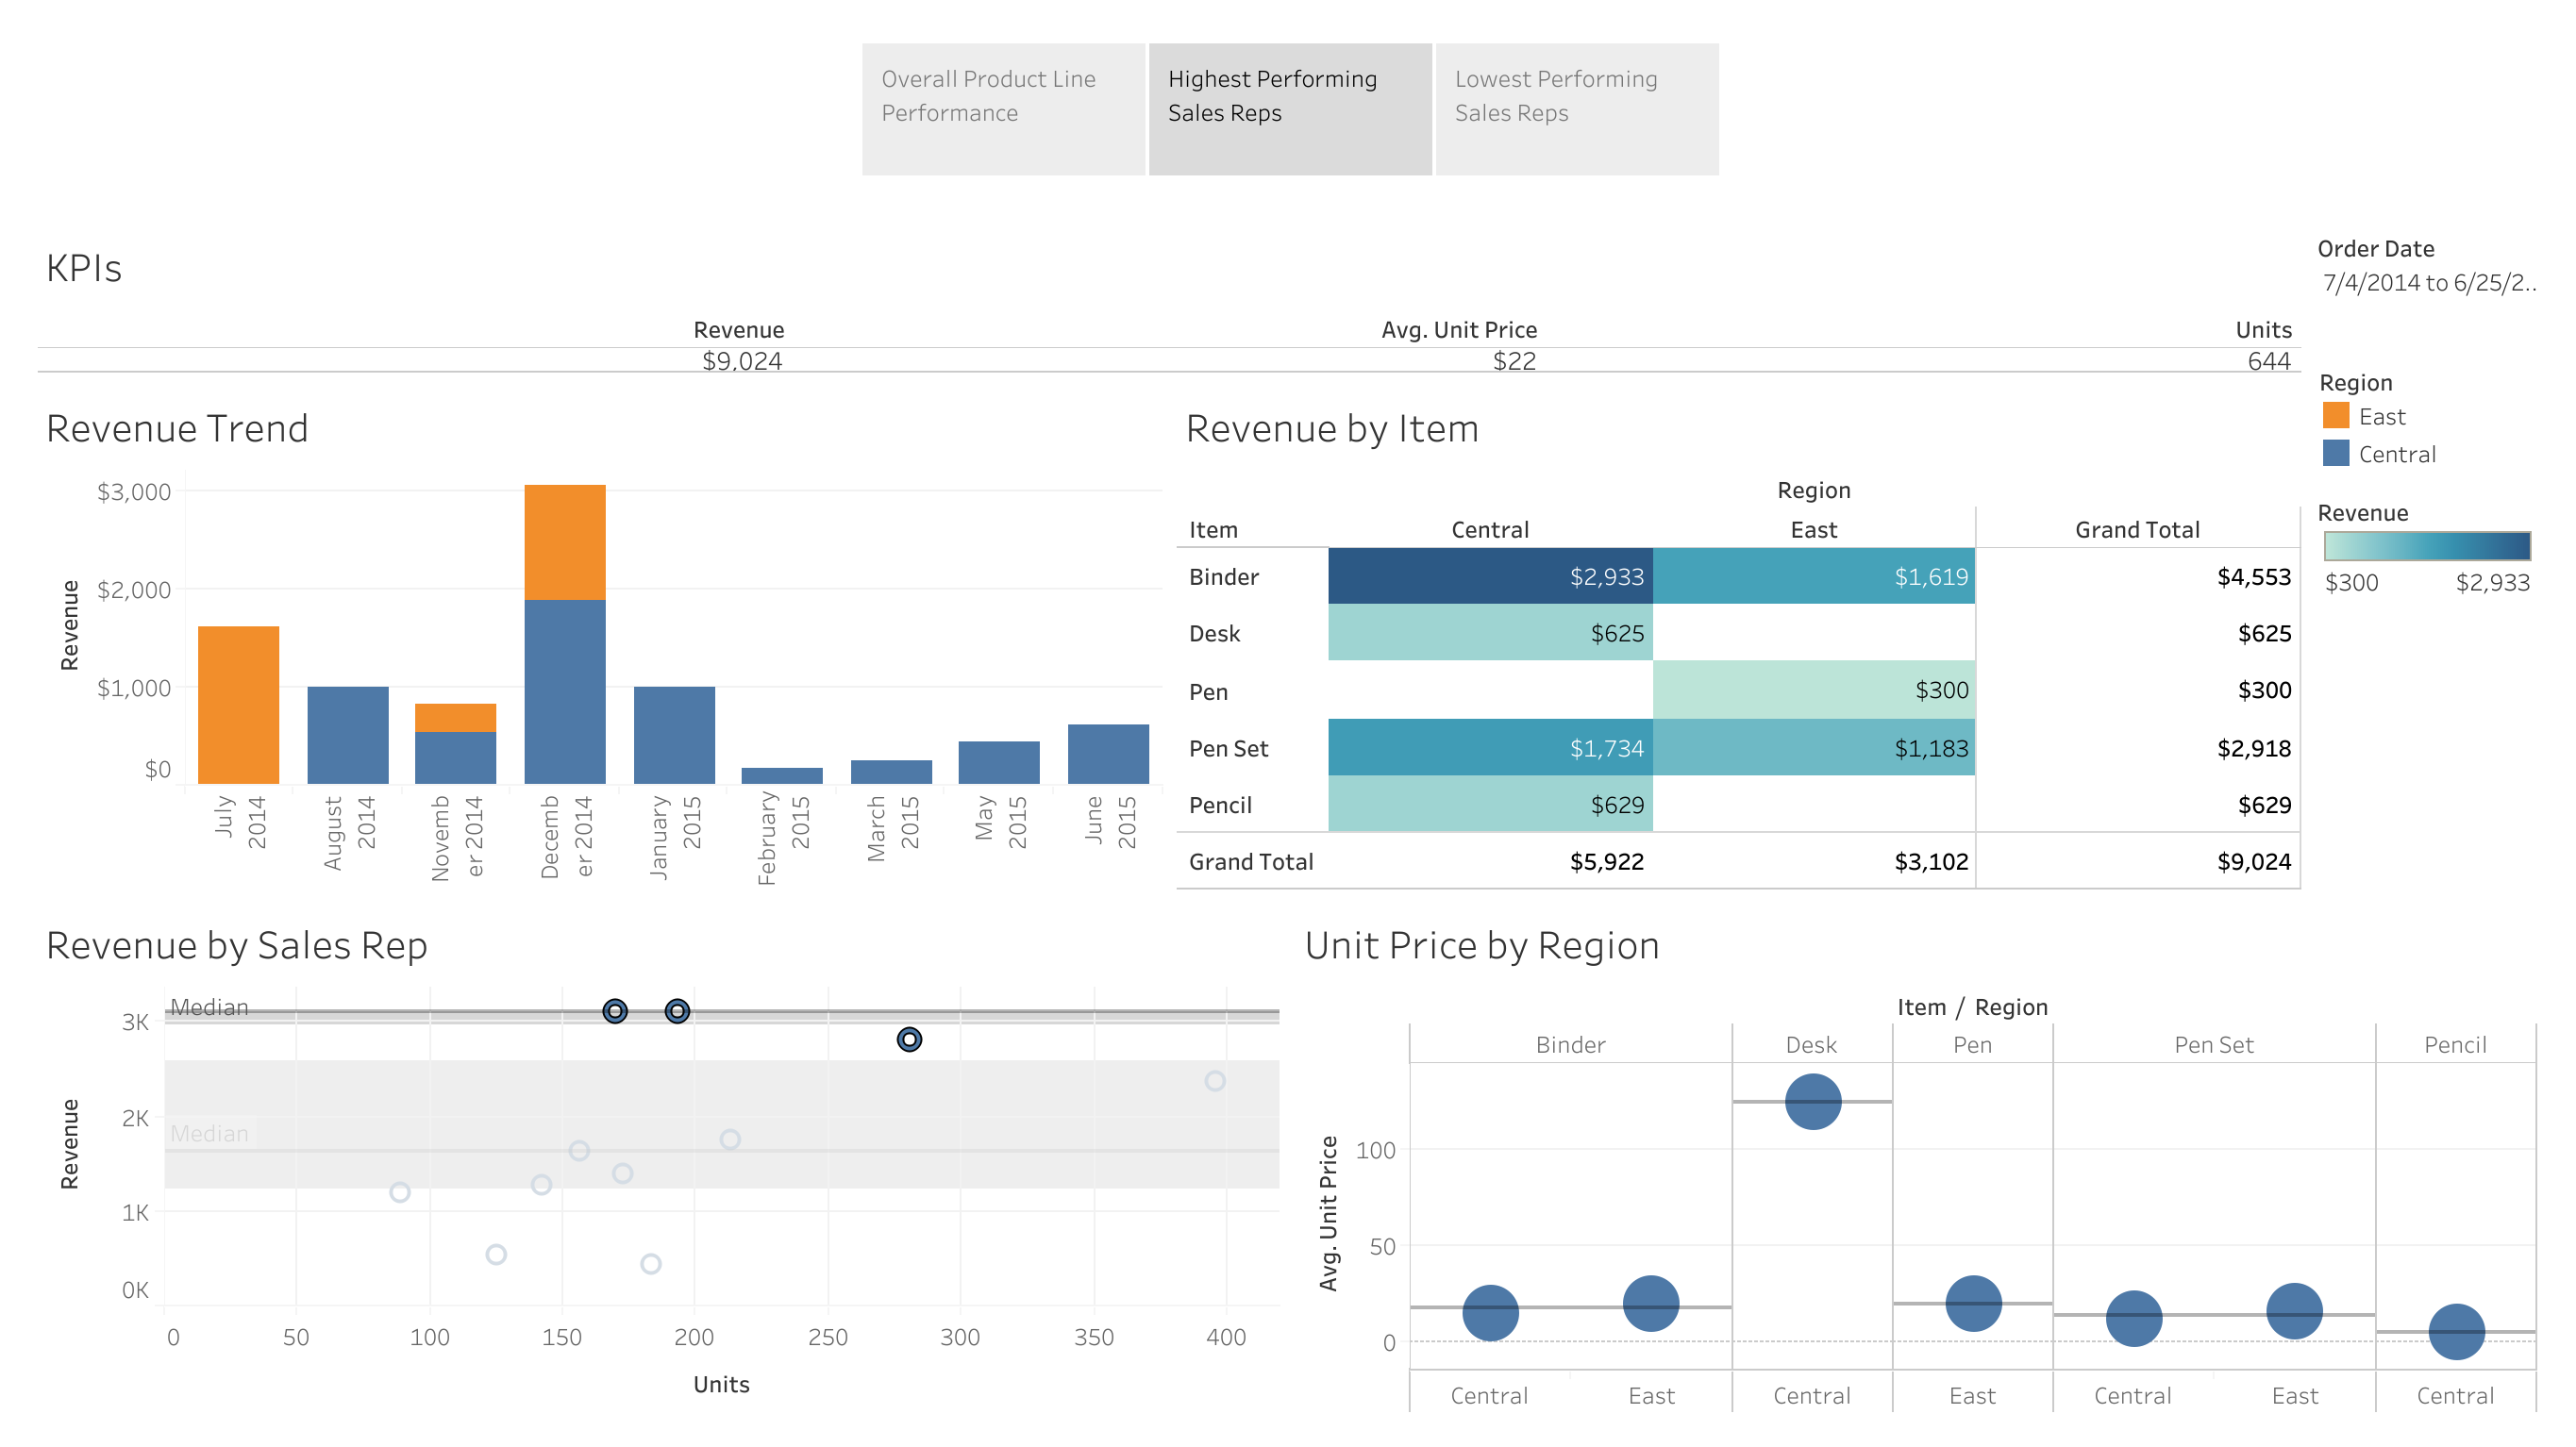

Layout of this report page (visuals, bound fields, positions):
{"tool":"tableau","page":{"name":"Product Line Dashboard","canvas":[1000,1000],"units":"permille","ordinal":0},"visuals":[{"type":"worksheet","title":"KPIs","mark":"Automatic","box":[6.5,10.6,884.5,131.1]},{"type":"filter","title":"KPIs","param":"[federated.02617e81pd71cb13j7m6x1pw9rpz].[none:OrderDate:qk]","box":[891,10.6,102.5,91.4]},{"type":"legend","title":"Revenue Trend","param":"[federated.02617e81pd71cb13j7m6x1pw9rpz].[none:Region:nk]","box":[891,102,102.5,113.9]},{"type":"worksheet","title":"Revenue Trend","mark":"Bar","rows":["Calculation_1773644263620444160"],"cols":["OrderDate"],"box":[6.5,141.7,442.2,422.5]},{"type":"worksheet","title":"Revenue by Item","mark":"Square","rows":["Item"],"cols":["Region"],"box":[448.7,141.7,442.2,422.5]},{"type":"legend","title":"Revenue by Item","param":"[federated.02617e81pd71cb13j7m6x1pw9rpz].[sum:Calculation_1773644263620444160:qk","box":[891,215.9,102.5,94]},{"type":"worksheet","title":"Revenue by Sales Rep","mark":"Automatic","rows":["Calculation_1773644263620444160"],"cols":["Units"],"box":[6.5,564.2,493.5,425.2]},{"type":"worksheet","title":"Unit Price by Region","mark":"Circle","rows":["Unit Price"],"cols":["Item","Region"],"box":[500,564.2,493.5,425.2]}]}

Visuals, with their boxes on the dashboard's canvas, which has no fixed pixel size, in thousandths of its width and height (x1, y1, x2, y2). These are canvas units, not pixel positions in the 2576x1447 screenshot, which may show the page scaled, cropped or inside an application window:
"KPIs" worksheet: 6 11 891 142
"KPIs" filter: 891 11 994 102
"Revenue Trend" legend: 891 102 994 216
"Revenue Trend" worksheet (Bar marks): 6 142 449 564
"Revenue by Item" worksheet (Square marks): 449 142 891 564
"Revenue by Item" legend: 891 216 994 310
"Revenue by Sales Rep" worksheet: 6 564 500 989
"Unit Price by Region" worksheet (Circle marks): 500 564 994 989
